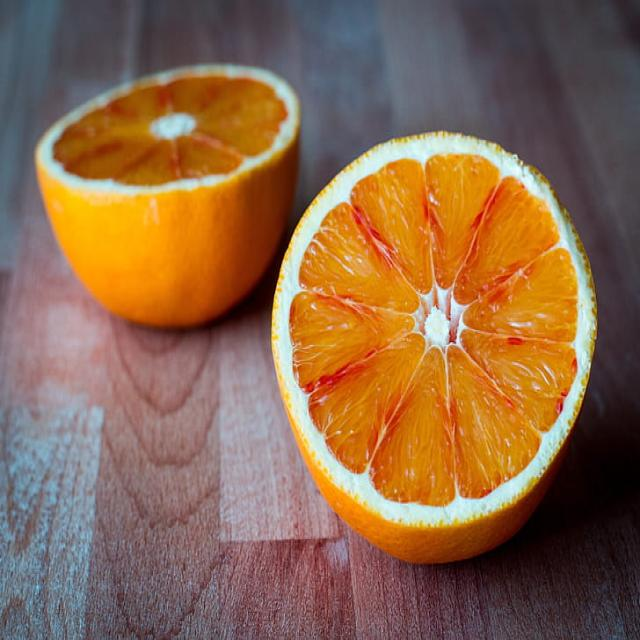orange: (271, 122, 606, 569), (42, 64, 291, 322)
